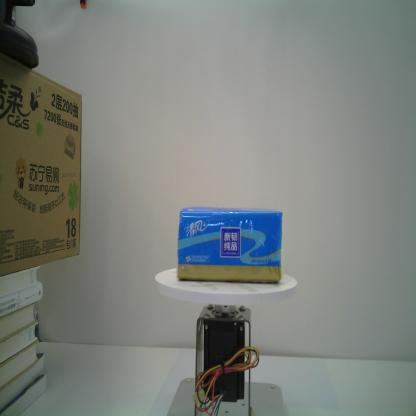Tissue: (178, 204, 284, 284)
